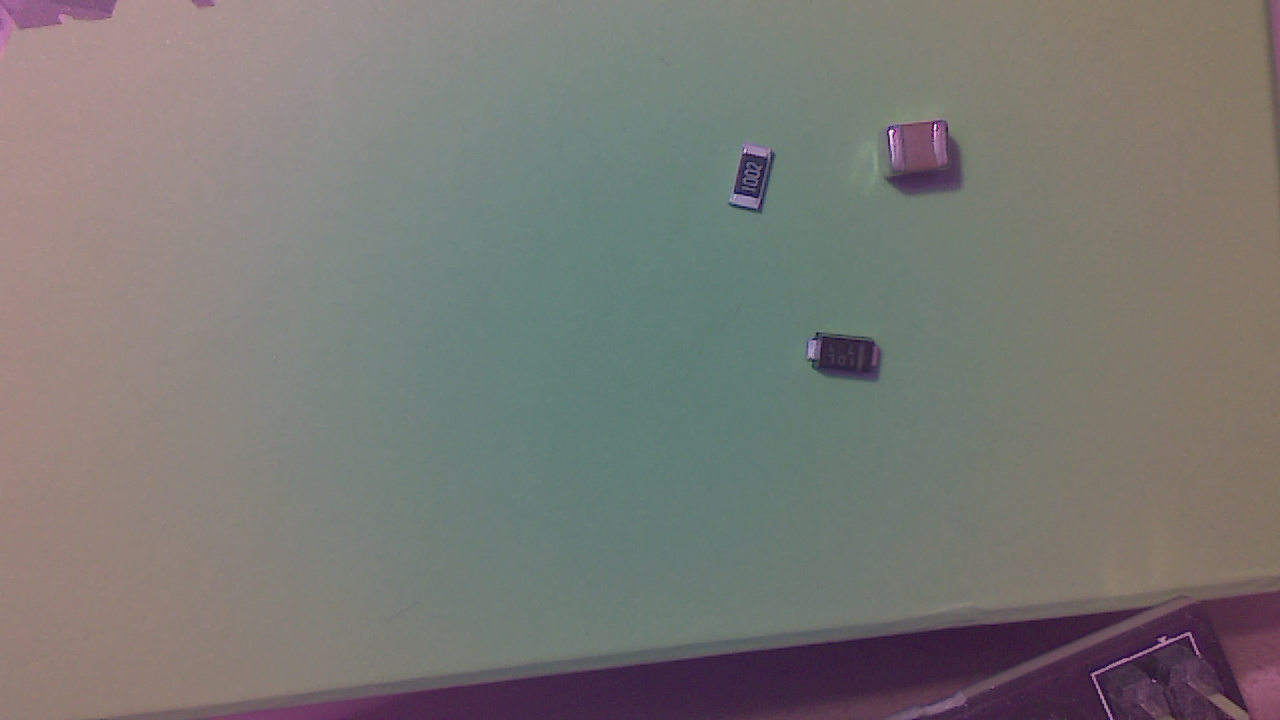Condensator: (883, 130, 952, 197)
Diode: (818, 332, 897, 385)
Resistor: (736, 151, 783, 215)
